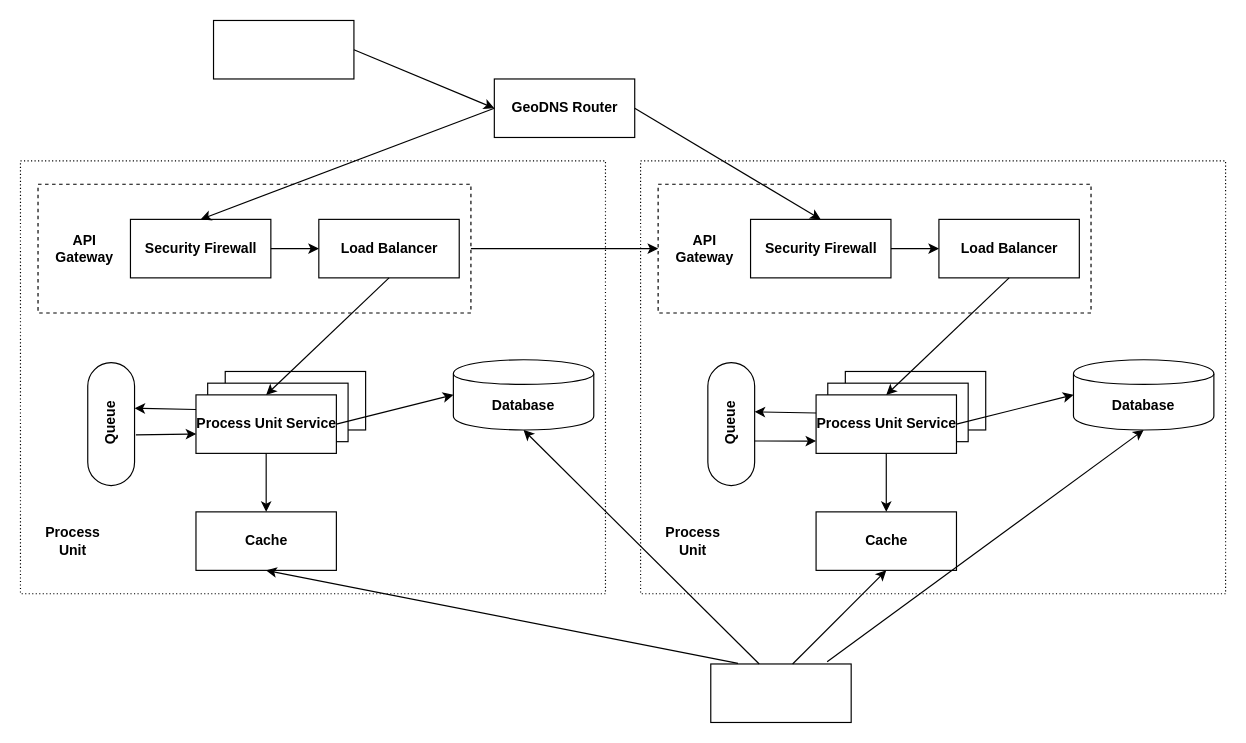
The diagram is 1246 pixels wide and 743 high, and some of its shapes have lost their labels. The shapes that lost their labels are listed below. From the top down, each one's centre as x and y in pixels, then its label:
(x=283, y=49): User's Mobile App
(x=780, y=692): Data Grid
